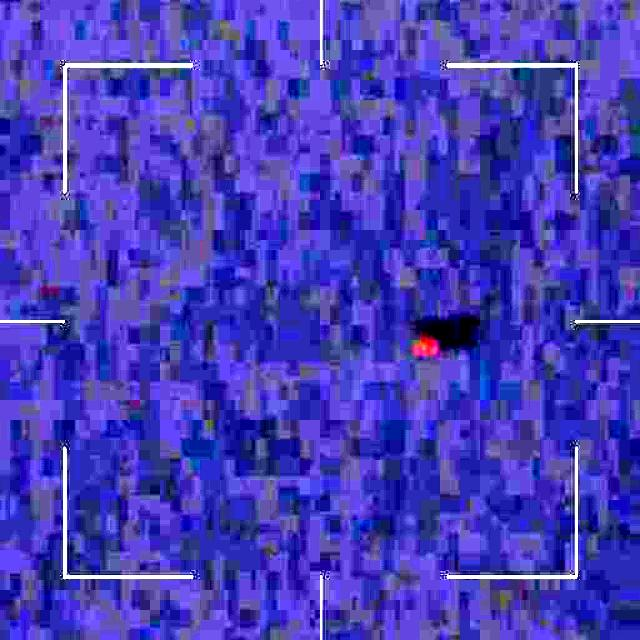bird: (418, 325, 450, 370)
